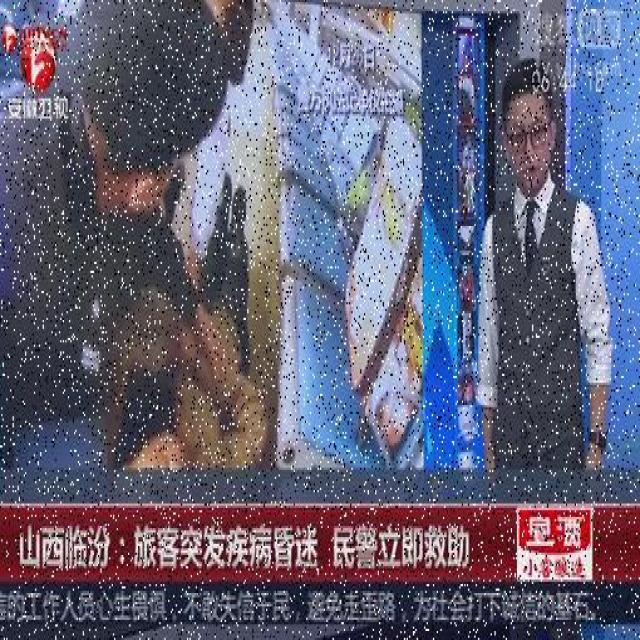fall: (122, 177, 268, 479)
